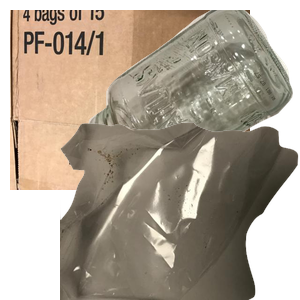cardboard: (10, 10, 250, 190)
glass: (86, 10, 300, 184)
plastic: (91, 152, 281, 300)
trash: (60, 120, 300, 300)
